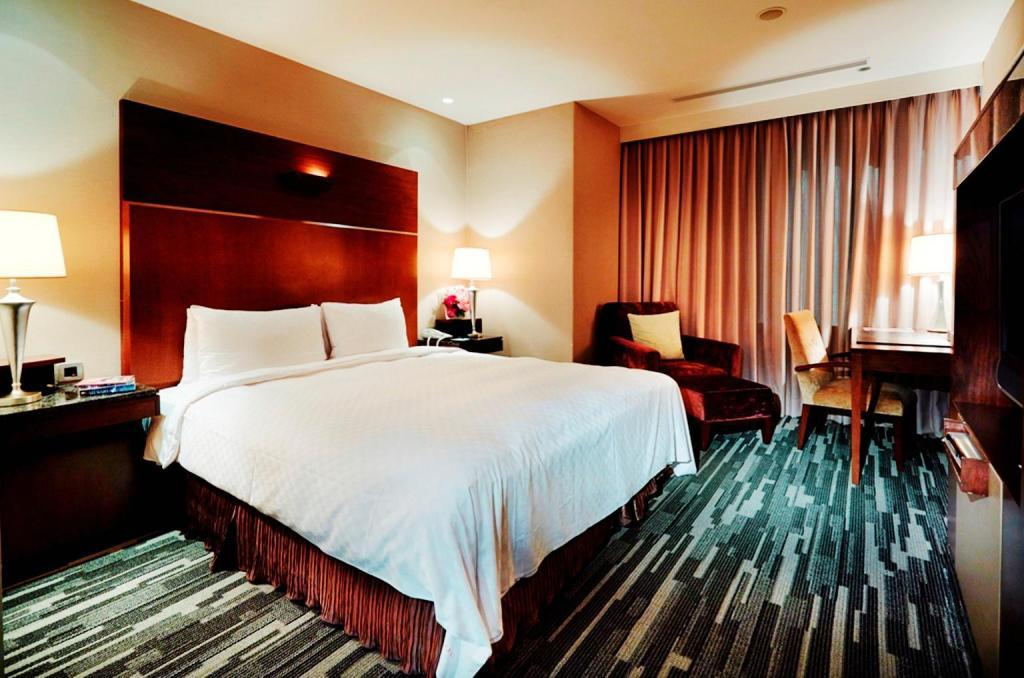bed: (138, 263, 568, 620)
